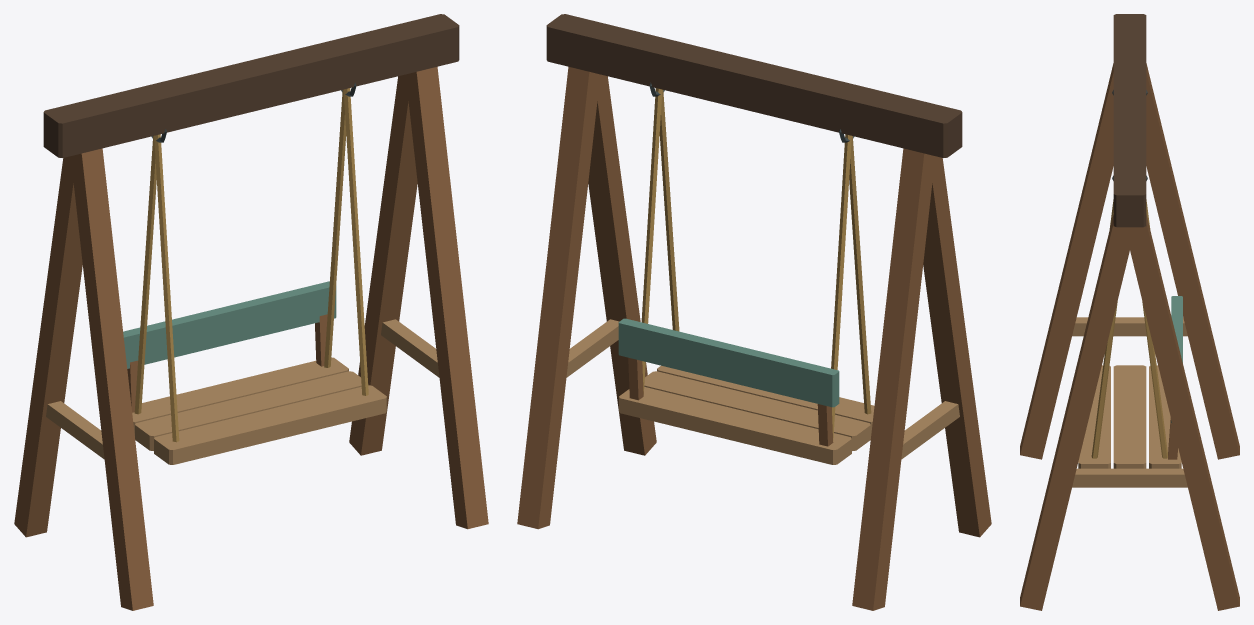
Rendered from decor_swing.glb.
3 renders of one model, left to right at view 1: azimuth 30°, elevation 25°; view 2: azimuth 150°, elevation 25°; view 3: azimuth 270°, elevation 25°, orthographic. The views are drawn at different scales.
Visible parts, largest first — view 1: geometry; view 2: geometry; view 3: geometry.
Part boxes in pixels (x1=…): geometry: x1=14, y1=14, x2=488, y2=610; geometry: x1=517, y1=14, x2=991, y2=610; geometry: x1=1020, y1=14, x2=1239, y2=610.
Bounding box in the file's own units: 1.82 × 2 × 0.9328.
